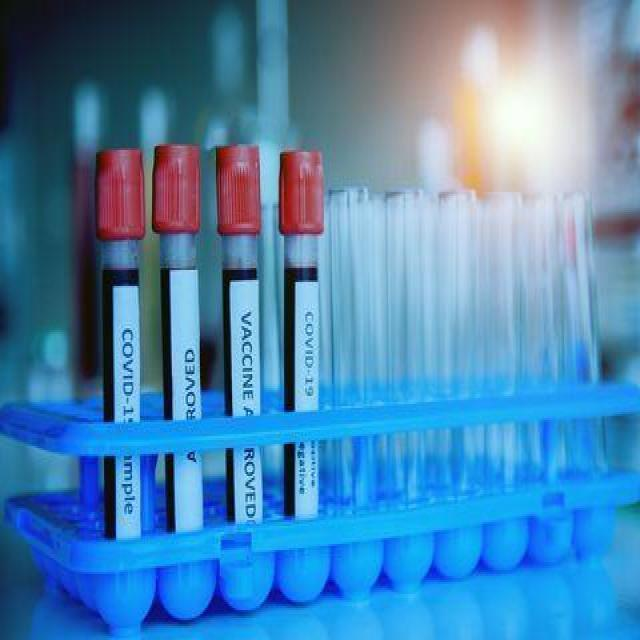flood: (104, 269, 114, 553)
